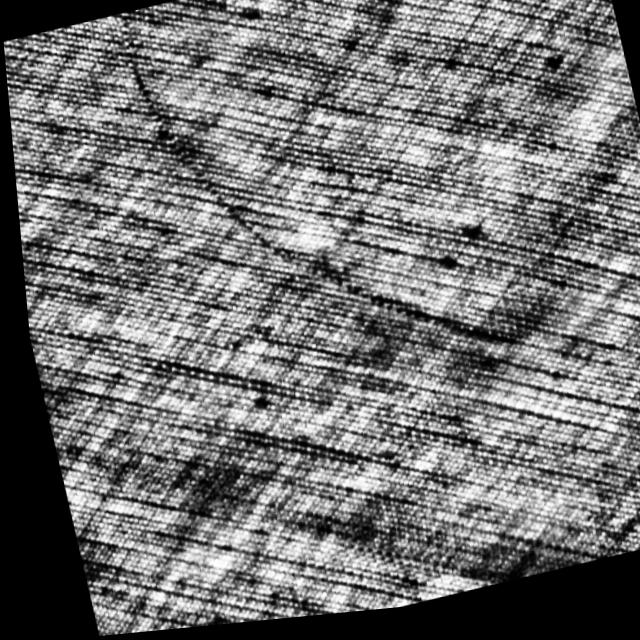Stitch: (116, 0, 521, 432)
